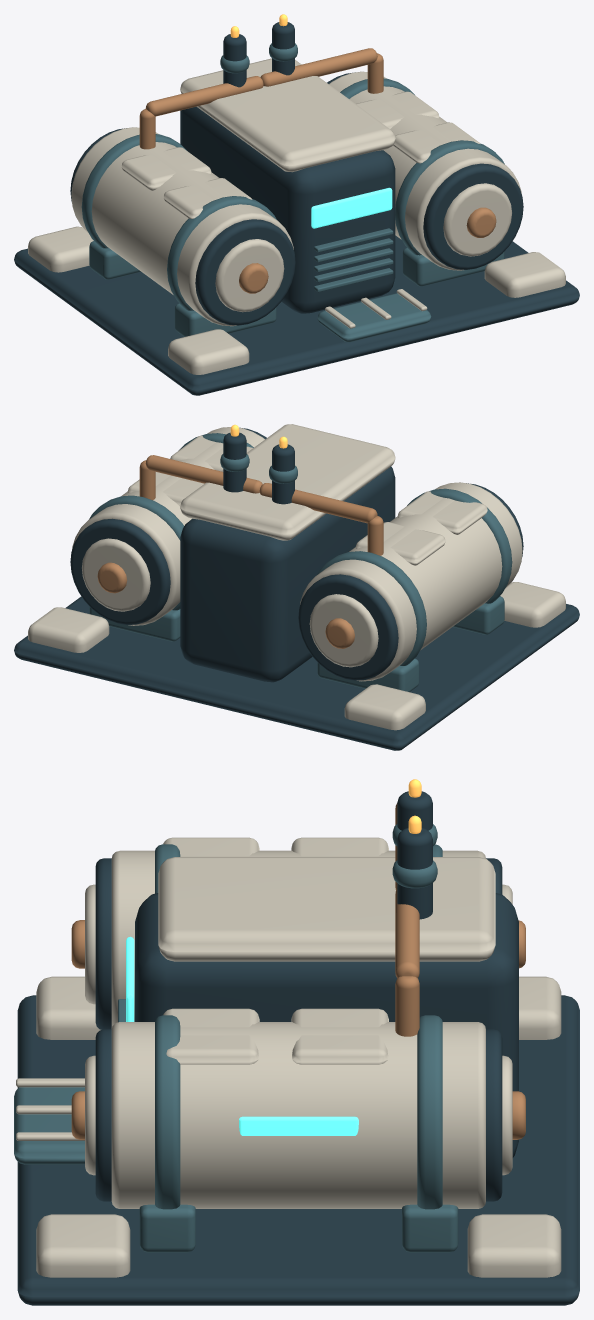
Rendered from refinery.glb.
3 renders of one model, top to bottom at view 1: azimuth 30°, elevation 25°; view 2: azimuth 150°, elevation 25°; view 3: azimuth 270°, elevation 25°, orthographic. The views are drawn at different scales.
Visible parts, largest first — view 1: Architecture; view 2: Architecture; view 3: Architecture.
Part boxes in pixels (x1=…): Architecture: x1=14, y1=14, x2=579, y2=395; Architecture: x1=14, y1=424, x2=579, y2=750; Architecture: x1=14, y1=779, x2=579, y2=1305.
Bounding box in the file's own units: 3.7 × 2.15 × 3.02.
